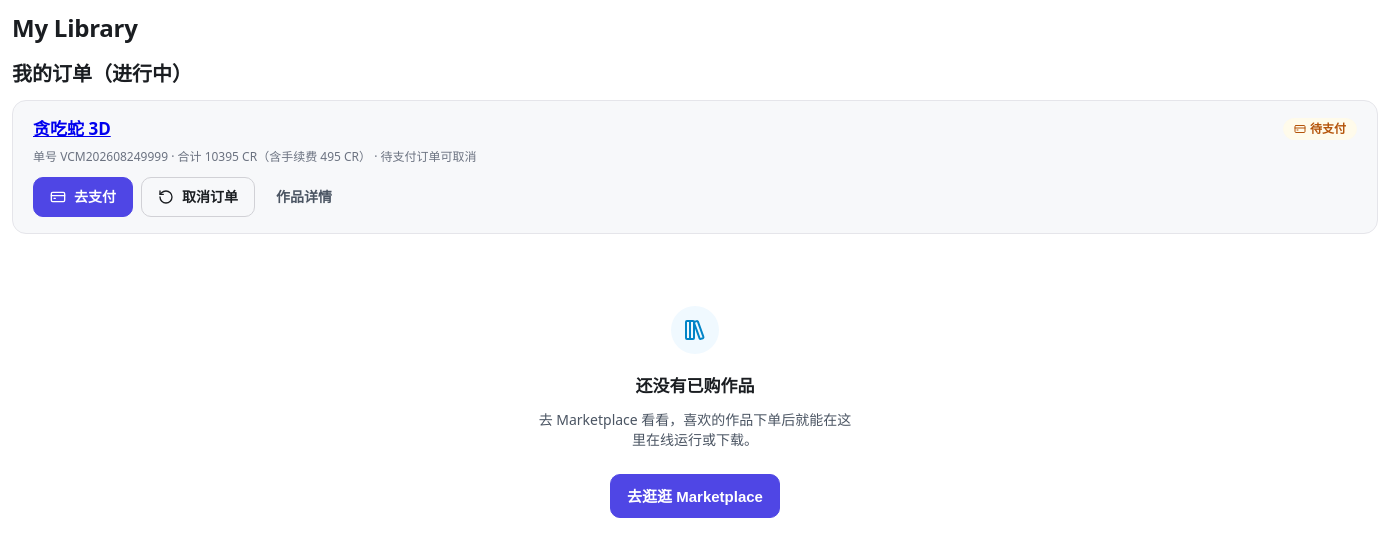
it: LibraryPage（区域 3 My Library） › 我的订单：待支付订单显示 去支付/取消订单，取消一步完成（不追问）
The width and height of the screenshot is (1378, 535).
Expected: the heading "我的订单（进行中）" is shown, [12,60,192,87]
Expected: the button "去支付" is shown, [33,177,133,217]
Click the button "取消订单" at (198, 197), box [141,177,255,217]
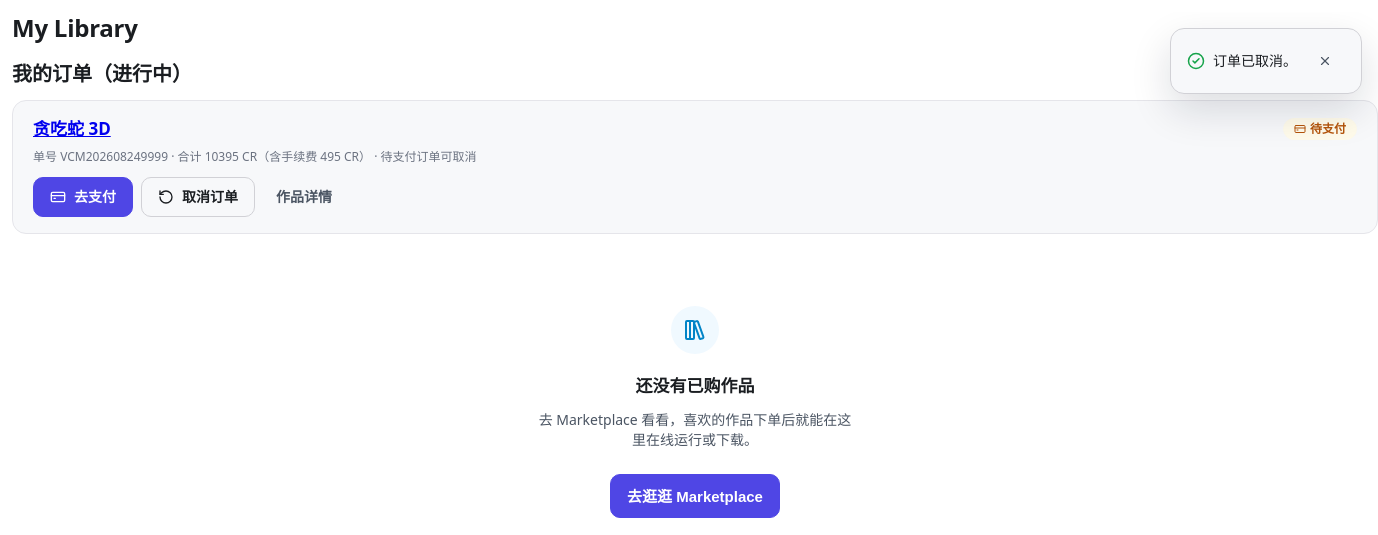
Expected: the element with test id "toast" is shown, [1170,28,1362,94]
